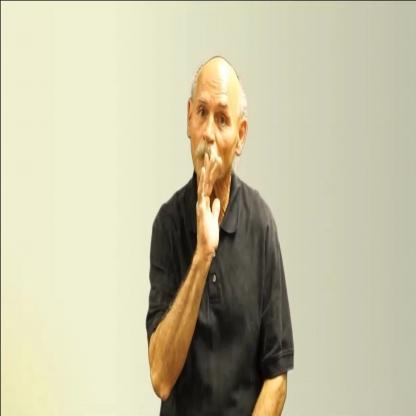Talk: (183, 41, 248, 259)
